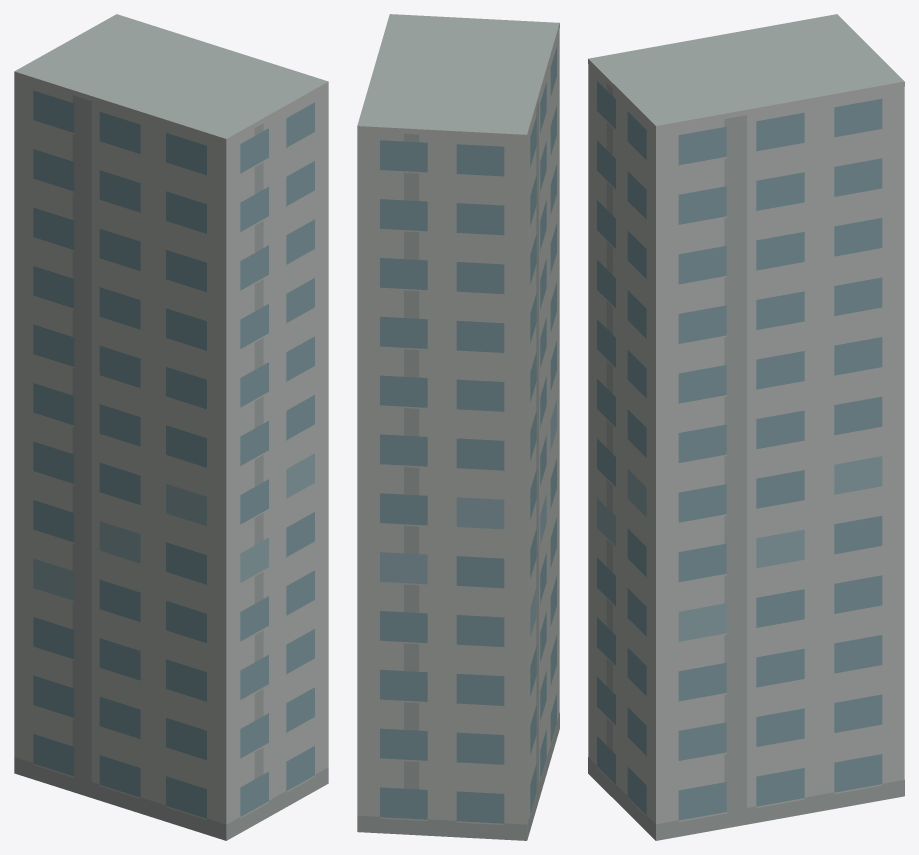
Rendered from residential-ad1c44c5-f77c-4861-8f85-ca564f9f4826.glb.
The picture shows the model from 3 angles, left to right: view 1: azimuth 30°, elevation 25°; view 2: azimuth 150°, elevation 25°; view 3: azimuth 270°, elevation 25°; orthographic projection.
Visible parts, largest first — view 1: residential-ad1c44c5-f77c-4861-8f85-ca564f9f4826.tmp; view 2: residential-ad1c44c5-f77c-4861-8f85-ca564f9f4826.tmp; view 3: residential-ad1c44c5-f77c-4861-8f85-ca564f9f4826.tmp.
Part boxes in pixels (x1,y1,x2,y2): residential-ad1c44c5-f77c-4861-8f85-ca564f9f4826.tmp: [14, 14, 328, 840]; residential-ad1c44c5-f77c-4861-8f85-ca564f9f4826.tmp: [357, 14, 559, 840]; residential-ad1c44c5-f77c-4861-8f85-ca564f9f4826.tmp: [588, 14, 904, 840].
Size of the model in its own units: 11.1 by 33 by 13.26.
